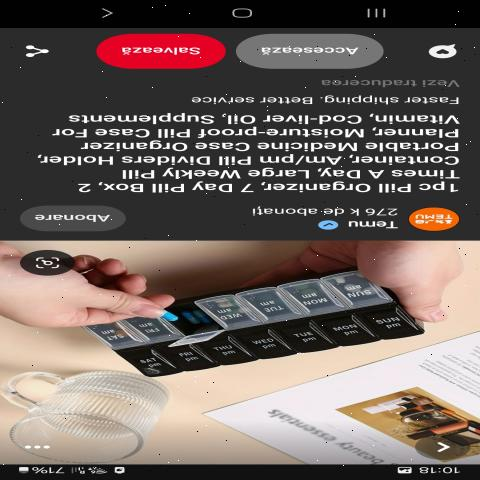PillBox: (73, 269, 444, 383)
